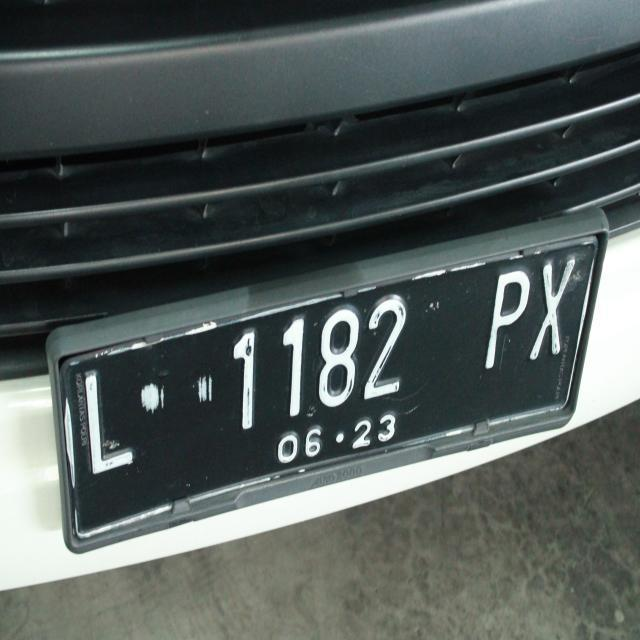1: (216, 324, 266, 436), (266, 308, 310, 422)
2: (356, 282, 411, 412)
8: (307, 294, 362, 412)
L: (70, 354, 142, 481)
P: (479, 252, 534, 374)
X: (520, 244, 578, 370)
